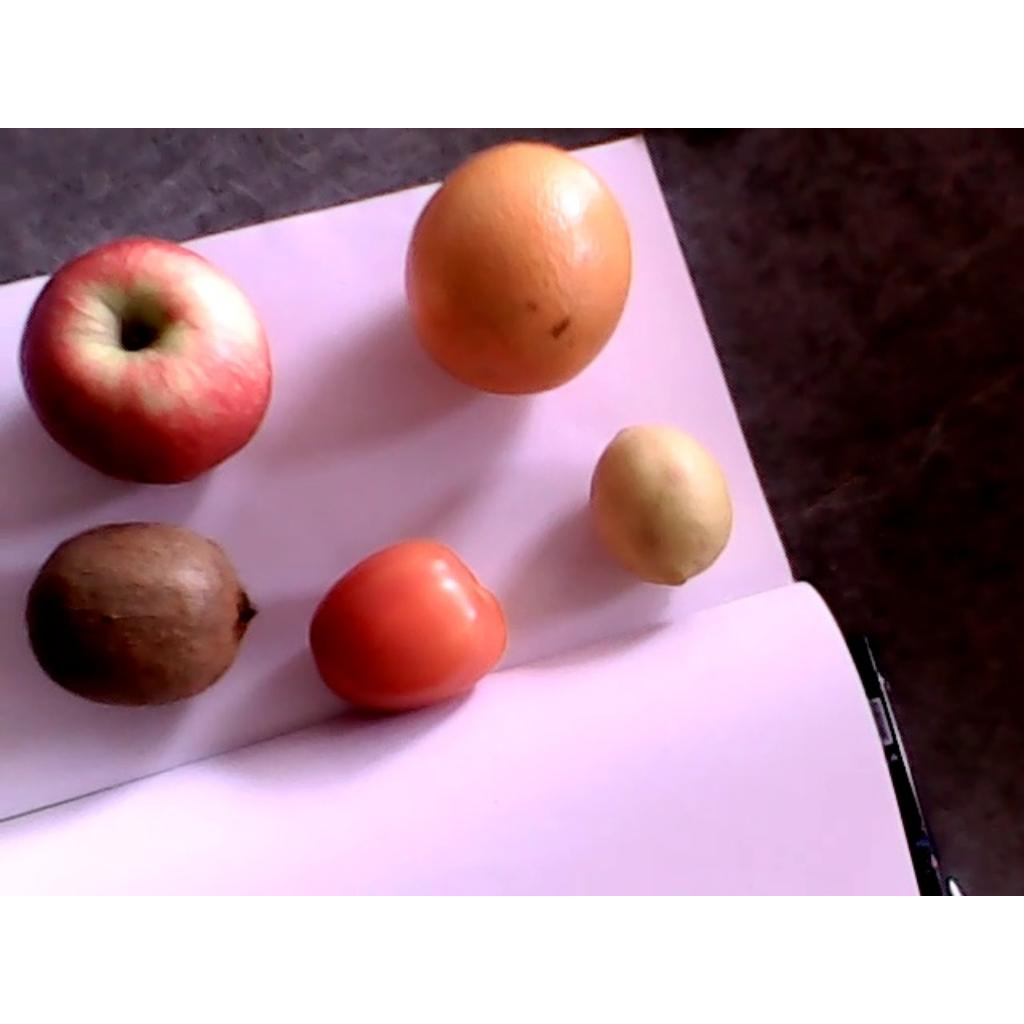apple: (22, 237, 271, 485)
kiwi: (24, 523, 260, 706)
lemon: (589, 426, 732, 588)
orange: (405, 142, 631, 397)
tomato: (308, 538, 507, 714)
